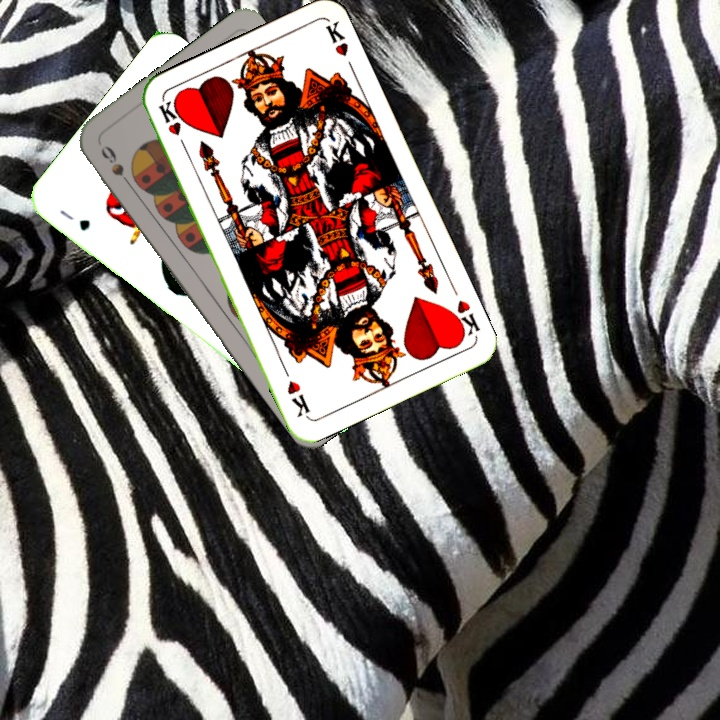GU: (55, 205, 93, 234)
HK: (154, 96, 190, 154), (445, 296, 483, 342)
S9: (96, 141, 136, 192)
